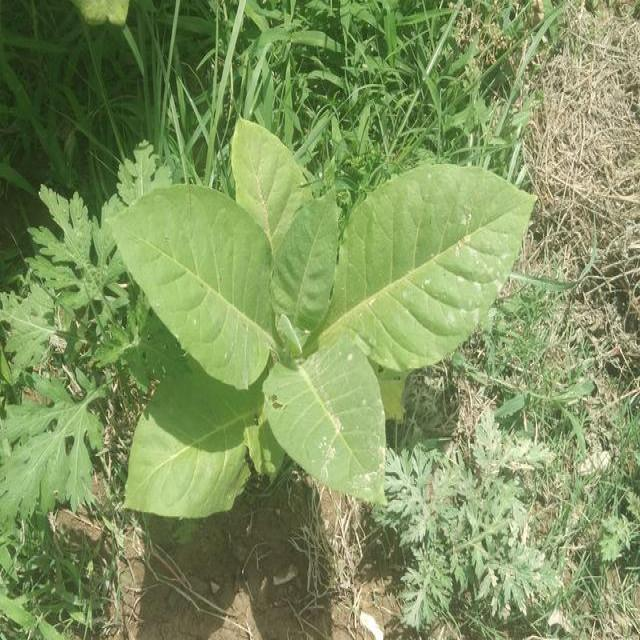crop: (103, 119, 542, 526)
